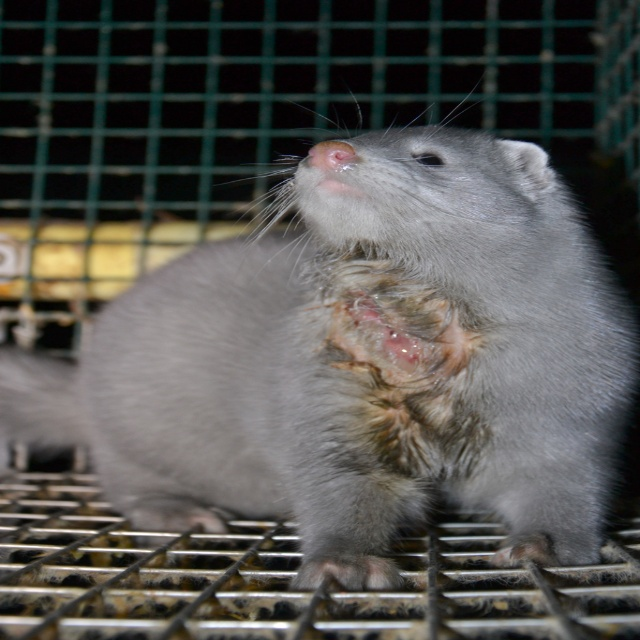Mouse: (76, 130, 627, 596)
